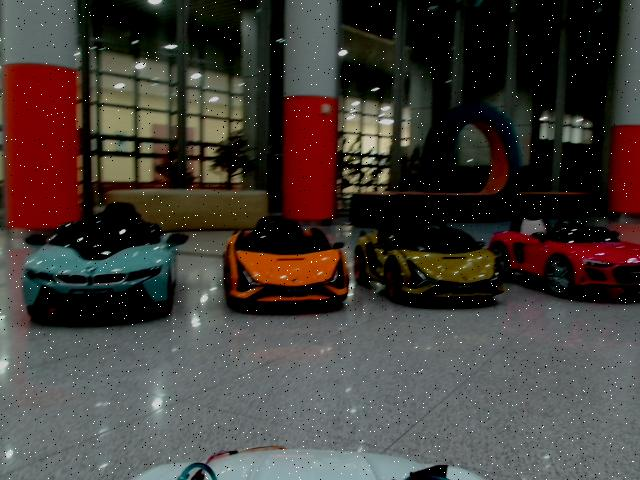car: (21, 202, 188, 318), (354, 215, 502, 302), (488, 208, 636, 295), (222, 217, 348, 307)
